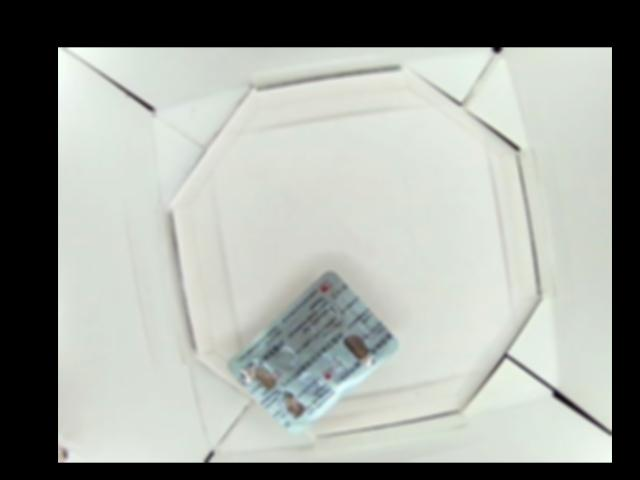Medicine: (229, 268, 399, 435)
